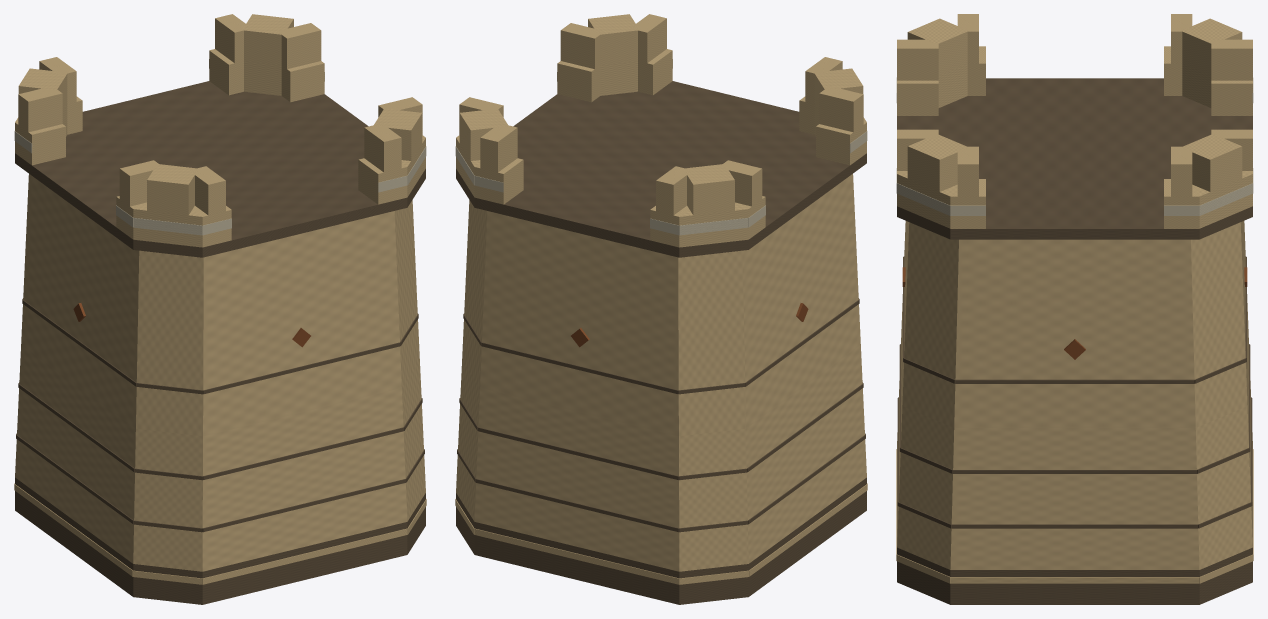
The model's file is Berber_Bastion_Age4_cross.fbx.
The picture shows the model from 3 angles, left to right: view 1: azimuth 30°, elevation 25°; view 2: azimuth 150°, elevation 25°; view 3: azimuth 270°, elevation 25°; orthographic projection. The views are drawn at different scales.
Parts seen in each view (by area): view 1: cross_battered_upper, cross_battered_lower, cross_continuous_walk_floor, cross_stone_foot, cross_guard_7_0, cross_guard_6_0, cross_guard_2_1, cross_foundation_bond_0, cross_merlon_7_0_0, cross_guard_0_1, cross_merlon_6_0_0, cross_merlon_2_1_0 (+21 smaller); view 2: cross_battered_upper, cross_battered_lower, cross_continuous_walk_floor, cross_stone_foot, cross_guard_5_0, cross_guard_6_1, cross_guard_2_0, cross_foundation_bond_4, cross_guard_4_0, cross_merlon_5_0_0, cross_merlon_6_1_0, cross_merlon_2_0_0 (+21 smaller); view 3: cross_battered_upper, cross_battered_lower, cross_continuous_walk_floor, cross_stone_foot, cross_foundation_bond_2, cross_merlon_3_0_0, cross_merlon_1_0_0, cross_guard_0_0, cross_guard_4_1, cross_guard_1_0, cross_guard_3_0, cross_merlon_0_0_0 (+21 smaller).
Part boxes in pixels (bbox=[...]): cross_battered_upper: bbox=[21, 174, 419, 436]; cross_battered_lower: bbox=[15, 345, 425, 571]; cross_continuous_walk_floor: bbox=[15, 81, 425, 257]; cross_stone_foot: bbox=[15, 477, 425, 604]; cross_guard_7_0: bbox=[133, 203, 204, 247]; cross_guard_6_0: bbox=[15, 122, 65, 165]; cross_guard_2_1: bbox=[281, 61, 324, 102]; cross_foundation_bond_0: bbox=[202, 528, 407, 584]; cross_merlon_7_0_0: bbox=[147, 176, 194, 215]; cross_guard_0_1: bbox=[358, 158, 407, 204]; cross_merlon_6_0_0: bbox=[18, 94, 62, 132]; cross_merlon_2_1_0: bbox=[281, 30, 321, 69]; cross_battered_upper: bbox=[462, 174, 860, 436]; cross_battered_lower: bbox=[456, 345, 866, 571]; cross_continuous_walk_floor: bbox=[456, 81, 866, 257]; cross_stone_foot: bbox=[456, 477, 866, 604]; cross_guard_5_0: bbox=[678, 202, 748, 247]; cross_guard_6_1: bbox=[816, 122, 866, 165]; cross_guard_2_0: bbox=[557, 61, 600, 102]; cross_foundation_bond_4: bbox=[474, 528, 679, 584]; cross_guard_4_0: bbox=[474, 158, 523, 204]; cross_merlon_5_0_0: bbox=[687, 177, 734, 215]; cross_merlon_6_1_0: bbox=[819, 94, 863, 132]; cross_merlon_2_0_0: bbox=[560, 30, 600, 69]; cross_battered_upper: bbox=[902, 221, 1247, 427]; cross_battered_lower: bbox=[897, 312, 1252, 569]; cross_continuous_walk_floor: bbox=[897, 78, 1252, 239]; cross_stone_foot: bbox=[897, 547, 1252, 604]; cross_foundation_bond_2: bbox=[950, 577, 1199, 583]; cross_merlon_3_0_0: bbox=[1192, 147, 1242, 191]; cross_merlon_1_0_0: bbox=[907, 147, 957, 191]; cross_guard_0_0: bbox=[897, 80, 938, 115]; cross_guard_4_1: bbox=[1211, 80, 1252, 115]; cross_guard_1_0: bbox=[897, 171, 957, 228]; cross_guard_3_0: bbox=[1170, 171, 1252, 228]; cross_merlon_0_0_0: bbox=[897, 48, 938, 80].
Size of the model in its own units: 603 by 820 by 603.
Materials: 4 (4 with a texture image).
